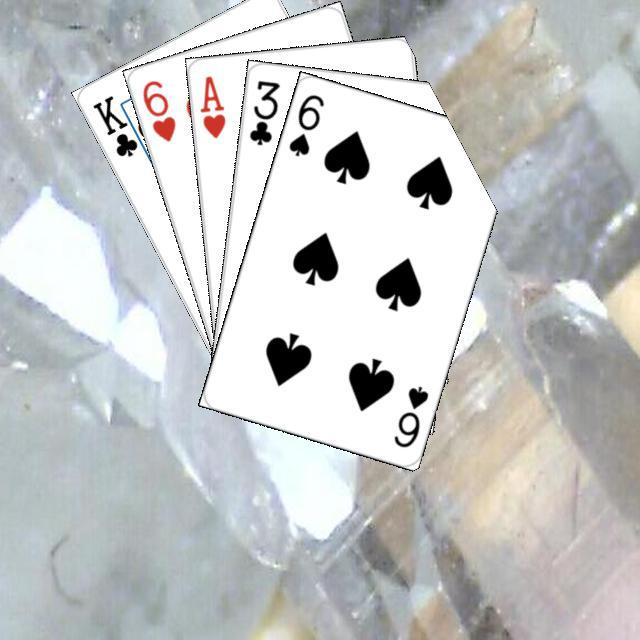3c: (244, 75, 282, 147)
6h: (137, 75, 178, 144)
6s: (284, 89, 326, 158), (388, 381, 430, 450)
Ah: (195, 70, 227, 140)
Kc: (87, 90, 150, 159)
